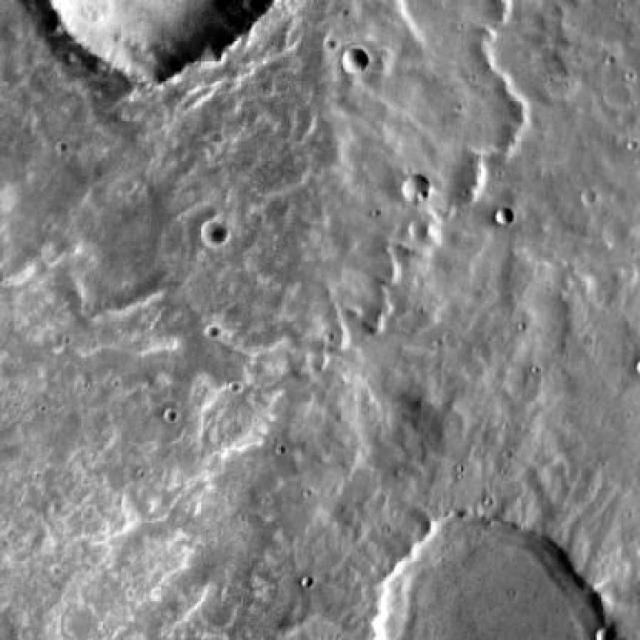crater: (361, 517, 594, 640), (44, 0, 281, 89), (342, 45, 370, 72), (402, 173, 428, 199), (201, 218, 227, 242), (495, 206, 514, 225), (586, 626, 606, 640), (629, 359, 640, 379)
